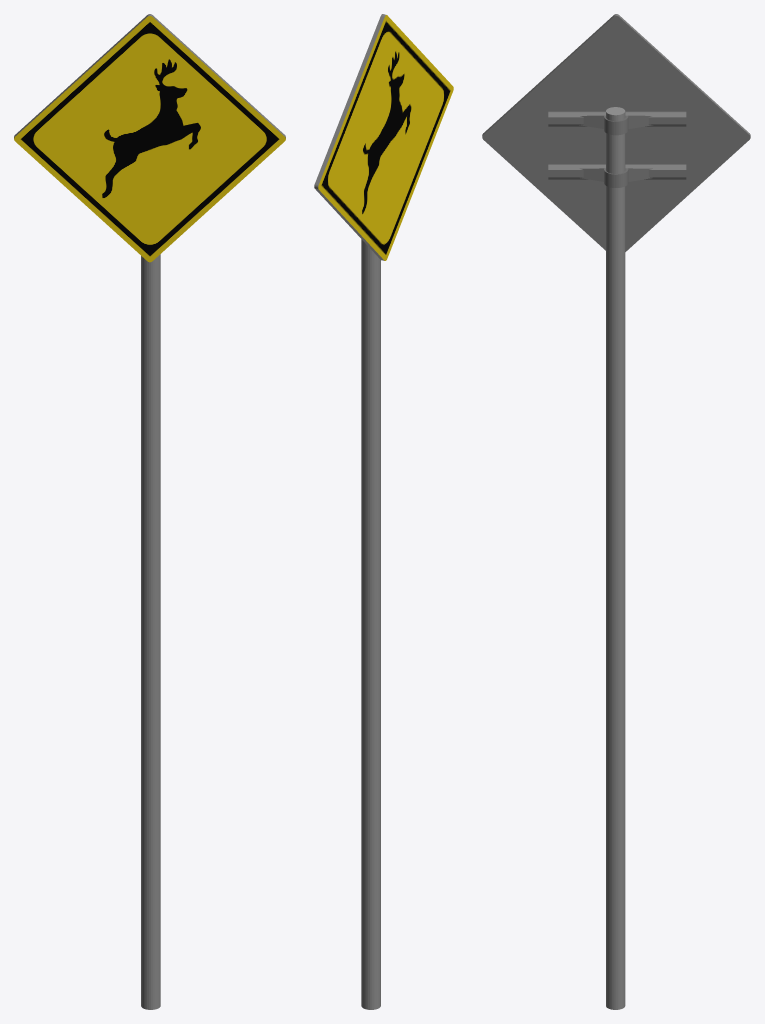
3 views of the same model, side by side, from view 1: azimuth 90°, elevation 25°; view 2: azimuth 150°, elevation 25°; view 3: azimuth 270°, elevation 25° (orthographic).
Visible parts, largest first — view 1: 014, Prop; view 2: 014, Prop; view 3: 014, Prop.
Boxes of the visible parts, x1,y1,x2,y2 form: 014: [14, 14, 285, 262]; Prop: [141, 254, 160, 1009]; 014: [314, 14, 453, 260]; Prop: [361, 239, 380, 1009]; 014: [482, 14, 750, 251]; Prop: [548, 107, 686, 1009].
Size of the model in its own units: 6.76 by 259 by 63.95.
